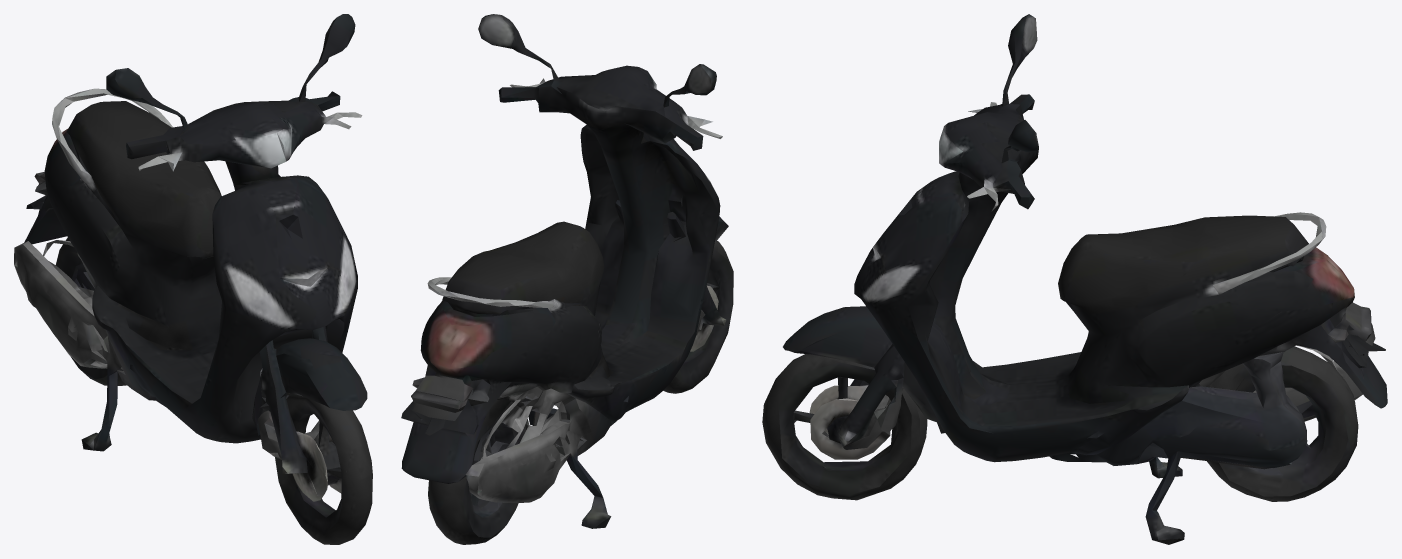
File: scooter.glb
The picture shows the model from 3 angles, left to right: view 1: azimuth 30°, elevation 25°; view 2: azimuth 150°, elevation 25°; view 3: azimuth 270°, elevation 25°; orthographic projection. The views are drawn at different scales.
Parts seen in each view (by area): view 1: scooter; view 2: scooter; view 3: scooter.
Boxes of the visible parts, left/top/right/bottom form: scooter: left=14, top=14, right=372, bottom=544; scooter: left=401, top=14, right=733, bottom=544; scooter: left=762, top=14, right=1387, bottom=544.
Bounding box in the file's own units: 0.6406 × 1.1 × 1.42.
1 material, 1 textured.
